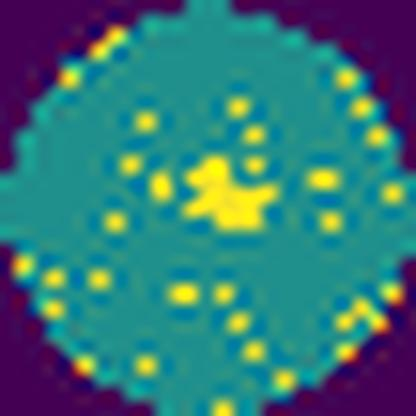Center: (177, 155, 278, 234)
